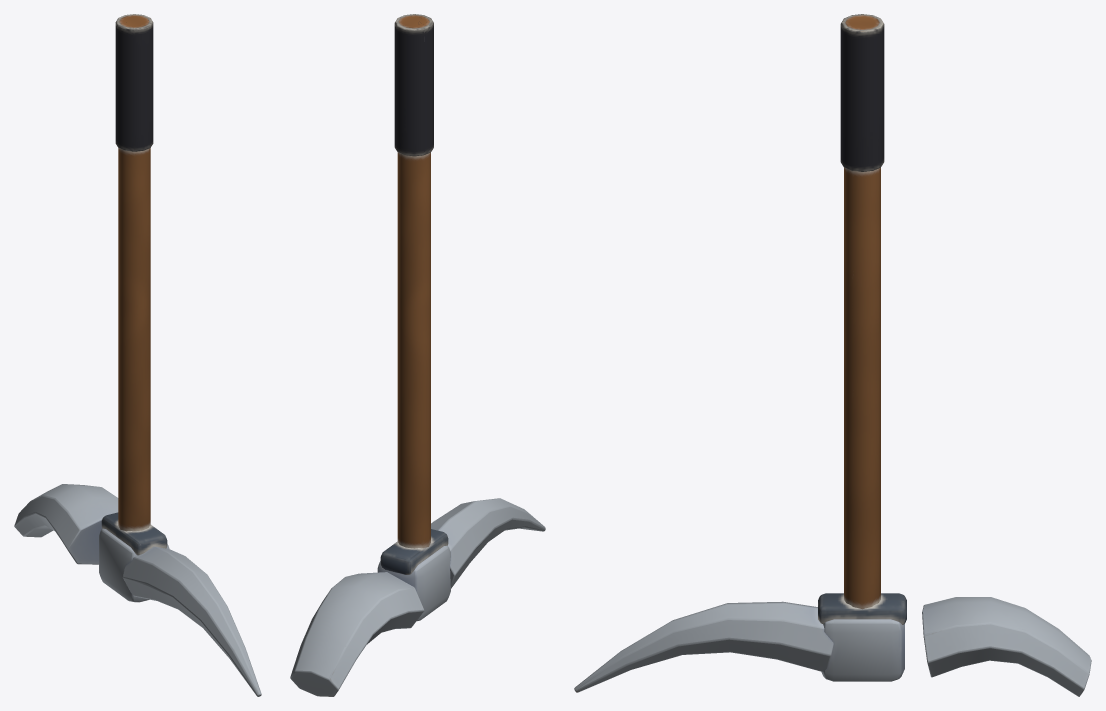
The model's file is pickaxe.glb.
3 views of the same model, side by side, from view 1: azimuth 30°, elevation 25°; view 2: azimuth 150°, elevation 25°; view 3: azimuth 270°, elevation 25° (orthographic). The views are drawn at different scales.
Parts seen in each view (by area): view 1: SM_Pickaxe; view 2: SM_Pickaxe; view 3: SM_Pickaxe.
Boxes of the visible parts, <box> form: SM_Pickaxe: <box>14,14,261,696</box>; SM_Pickaxe: <box>290,14,545,696</box>; SM_Pickaxe: <box>574,14,1091,696</box>.
Size of the model in its own units: 0.1307 by 0.9527 by 0.6668.
Materials: 2 (2 with a texture image).
